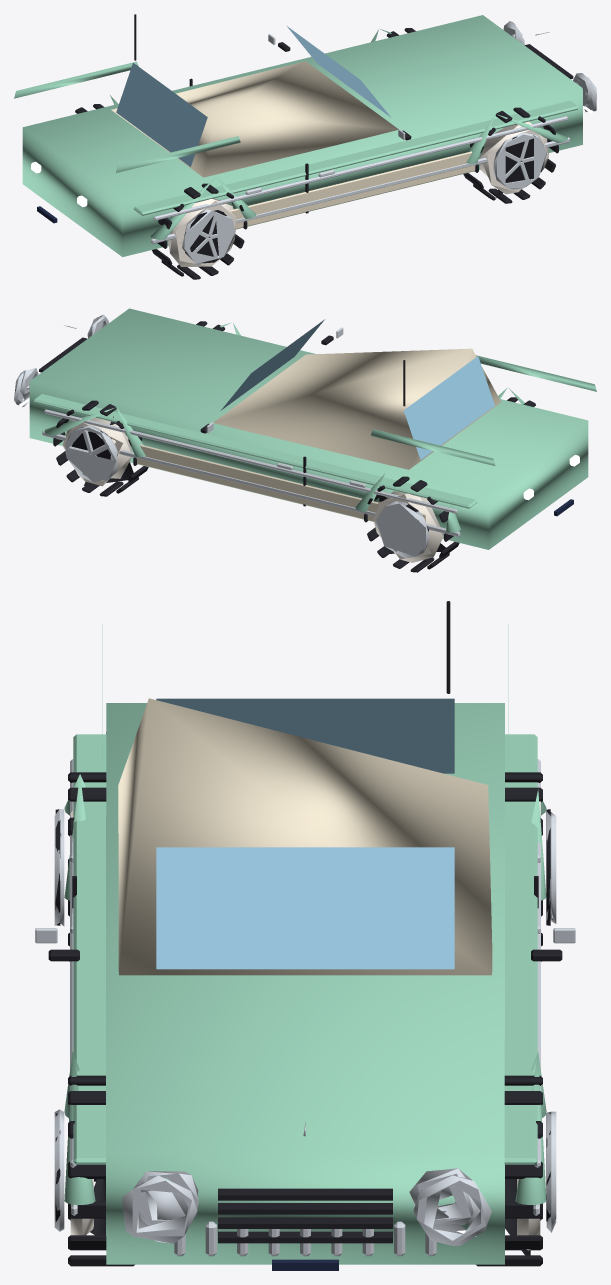
The model's file is classic_car.glb.
3 renders of one model, top to bottom at view 1: azimuth 30°, elevation 25°; view 2: azimuth 150°, elevation 25°; view 3: azimuth 270°, elevation 25°, orthographic. The views are drawn at different scales.
Visible parts, largest first — view 1: classic_car; view 2: classic_car; view 3: classic_car.
Part boxes in pixels (left/top/right/bottom): classic_car: left=14, top=14, right=596, bottom=279; classic_car: left=14, top=308, right=596, bottom=572; classic_car: left=35, top=601, right=575, bottom=1270.
Size of the model in its own units: 5.28 by 1.84 by 2.41.
1 material, 1 textured.
